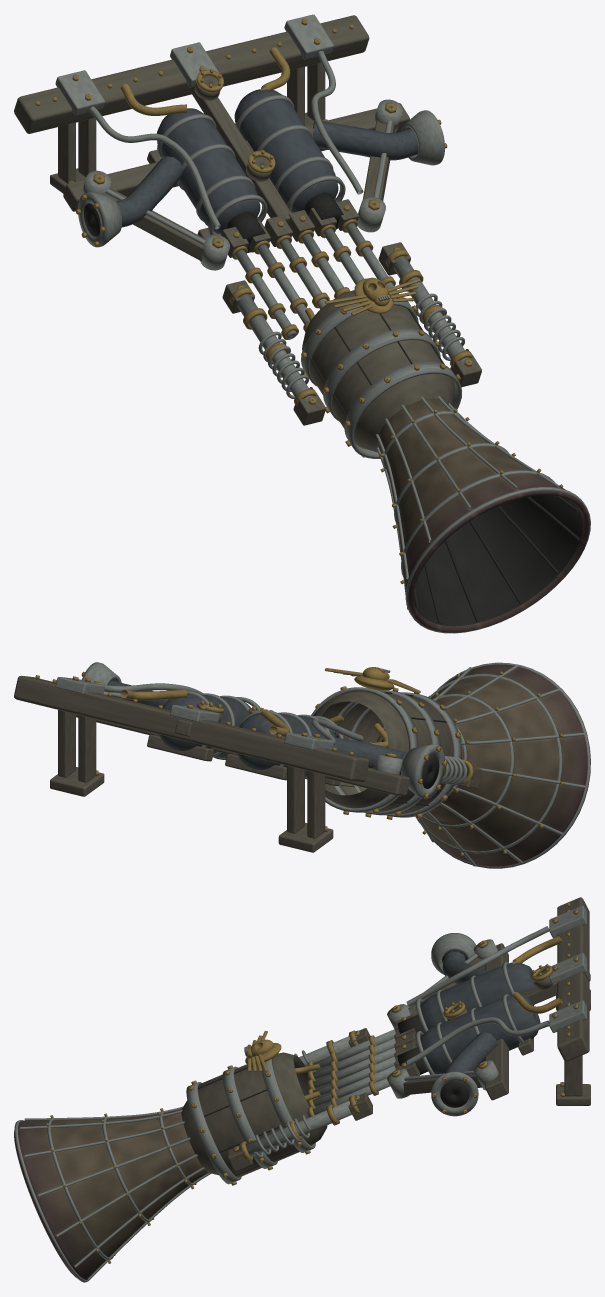
The model's file is hydrogen-thruster-v01.glb.
The picture shows the model from 3 angles, top to bottom: view 1: azimuth 30°, elevation 25°; view 2: azimuth 150°, elevation 25°; view 3: azimuth 270°, elevation 25°; orthographic projection. The views are drawn at different scales.
Visible parts, largest first — view 1: Continuous hollow bell, Upper mounting beam, Main pressure chamber, Paired canister 1, Paired canister -1, oxidizer routed supply neck, Central regulator spine, Pressure chamber retaining band.002, Lower mounting crossmember, fuel routed supply neck, Pressure chamber retaining band.001, oxidizer socket flange (+19 smaller); view 2: Continuous hollow bell, Upper mounting beam, Main pressure chamber, Paired canister 1, Pressure chamber retaining band, Lower mounting crossmember, fuel socket flange, Paired canister -1, Nozzle external transverse seam.003, Nozzle external transverse seam.002, Supported saddle cheek, Supported saddle cheek.002 (+28 smaller); view 3: Continuous hollow bell, Main pressure chamber, Paired canister 1, Upper mounting beam, Paired canister -1, Pressure chamber retaining band.002, Lower mounting crossmember, Outer actuator body 1, oxidizer routed supply neck, Pressure chamber retaining band.001, oxidizer socket flange, Outer pressure return 1 (+26 smaller).
Part boxes in pixels (x1,y1,x2,y2): Continuous hollow bell: (377, 398, 589, 632); Upper mounting beam: (14, 15, 369, 133); Main pressure chamber: (302, 290, 454, 452); Paired canister 1: (234, 89, 338, 212); Paired canister -1: (157, 108, 260, 234); oxidizer routed supply neck: (313, 121, 418, 160); Central regulator spine: (191, 86, 291, 224); Pressure chamber retaining band.002: (344, 362, 461, 458); Lower mounting crossmember: (63, 103, 409, 211); fuel routed supply neck: (116, 156, 183, 227); Pressure chamber retaining band.001: (323, 328, 440, 421); oxidizer socket flange: (401, 110, 444, 165); Continuous hollow bell: (377, 664, 587, 866); Upper mounting beam: (14, 675, 369, 782); Main pressure chamber: (313, 691, 453, 813); Paired canister 1: (159, 693, 251, 757); Pressure chamber retaining band: (311, 687, 418, 812); Lower mounting crossmember: (76, 714, 409, 796); fuel socket flange: (401, 744, 444, 799); Paired canister -1: (237, 713, 336, 776); Nozzle external transverse seam.003: (421, 662, 590, 868); Nozzle external transverse seam.002: (415, 674, 562, 853); Supported saddle cheek: (307, 770, 325, 838); Supported saddle cheek.002: (78, 715, 96, 782); Continuous hollow bell: (14, 1109, 207, 1279); Main pressure chamber: (181, 1052, 327, 1177); Paired canister 1: (418, 995, 540, 1073); Upper mounting beam: (557, 897, 589, 1061); Paired canister -1: (418, 962, 536, 1032); Pressure chamber retaining band.002: (186, 1082, 241, 1184); Lower mounting crossmember: (485, 943, 508, 1100); Outer actuator body 1: (236, 1100, 356, 1157); oxidizer routed supply neck: (445, 1031, 497, 1073); Pressure chamber retaining band.001: (222, 1066, 277, 1168); oxidizer socket flange: (431, 1071, 478, 1116); Outer pressure return 1: (406, 1017, 549, 1065).
Bounding box in the file's own units: 4.07 × 4.2 × 6.94.
7 materials, 7 textured.
